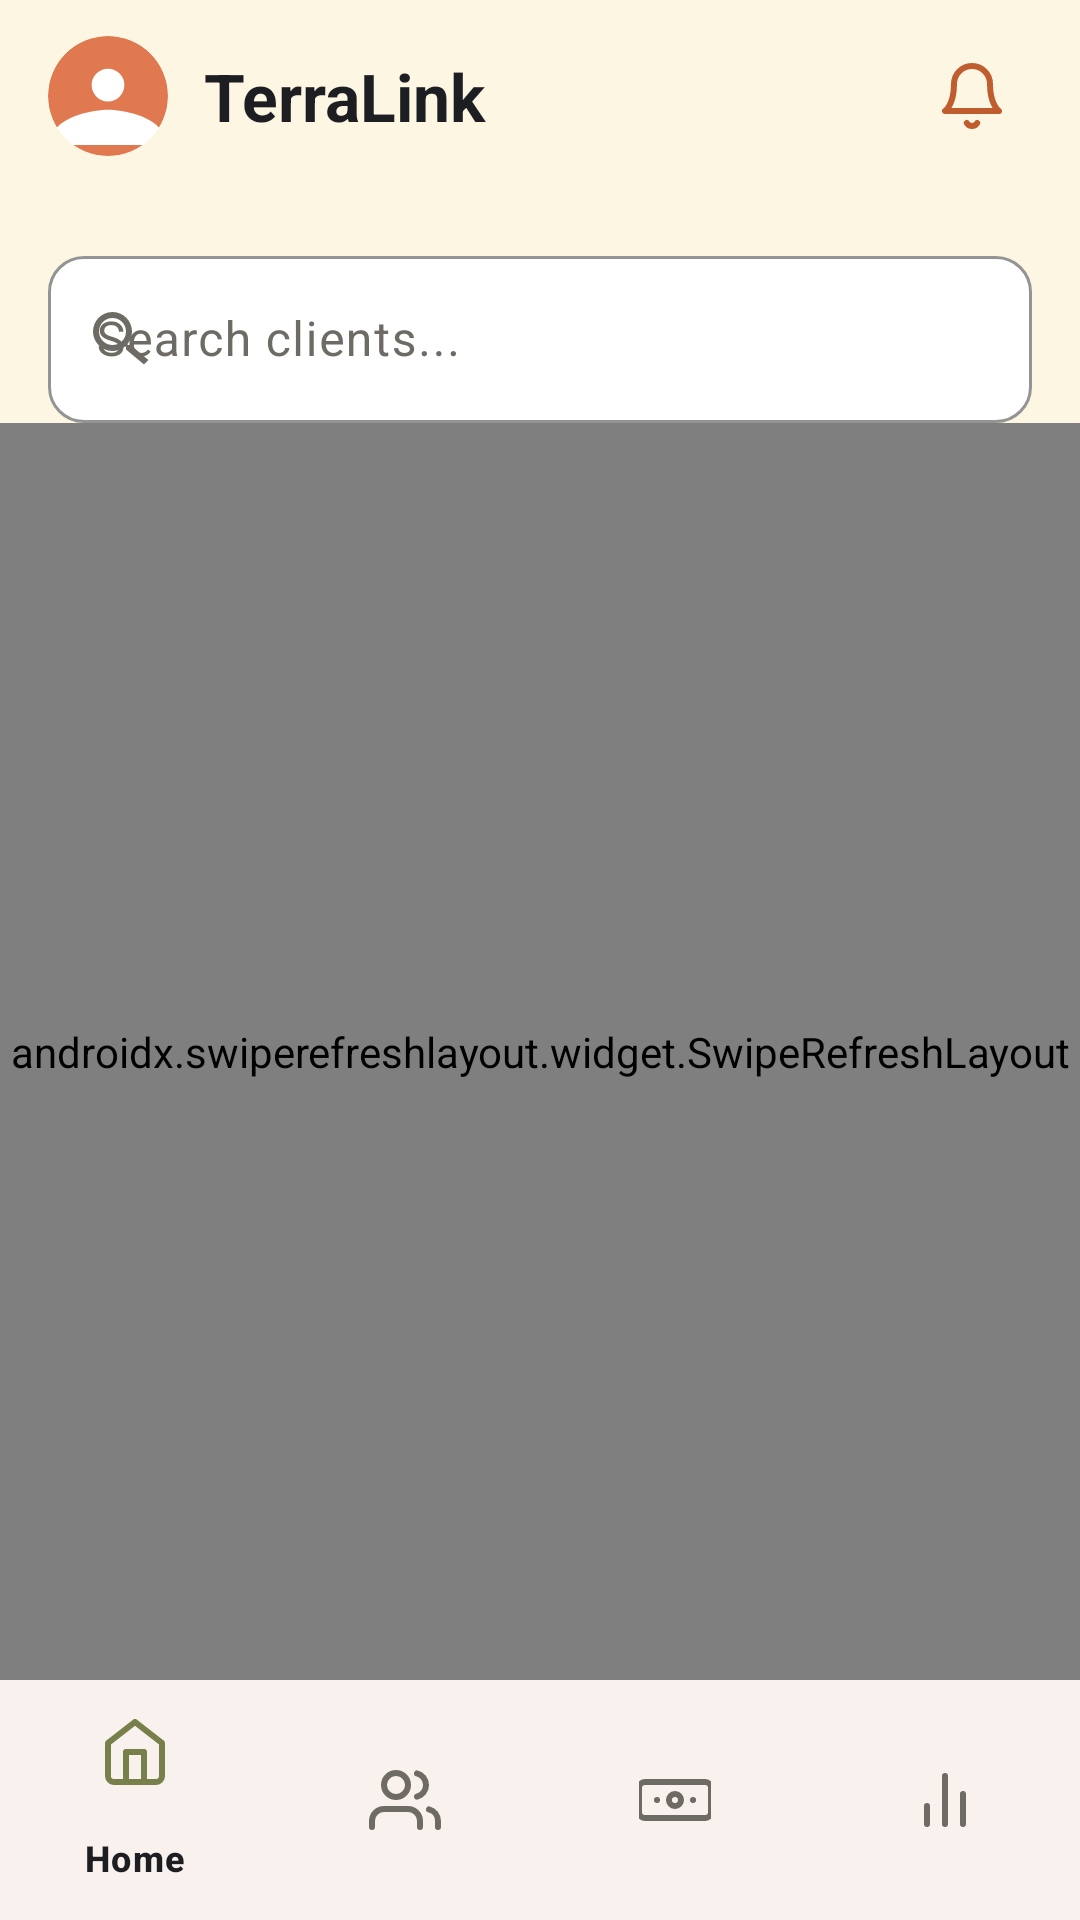

Screen size 1080px x 1920px. Icon name, then its center in pixels as (x,y):
bell: (972,96)
